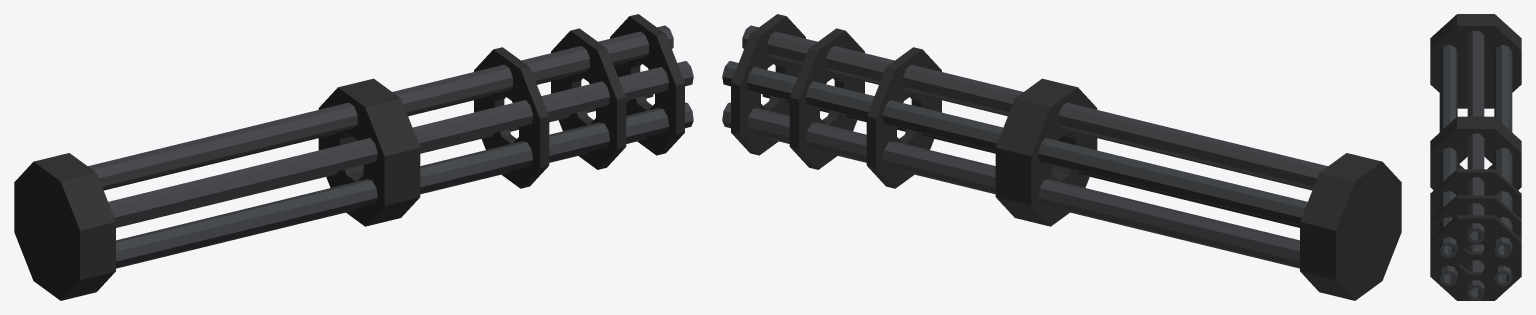
Rendered from LMG1_02_2.fbx.
3 views of the same model, side by side, from view 1: azimuth 30°, elevation 25°; view 2: azimuth 150°, elevation 25°; view 3: azimuth 270°, elevation 25° (orthographic). The views are drawn at different scales.
Visible parts, largest first — view 1: LMG1_02_2; view 2: LMG1_02_2; view 3: LMG1_02_2.
Part boxes in pixels (left/top/right/bottom): LMG1_02_2: left=14, top=14, right=693, bottom=300; LMG1_02_2: left=722, top=14, right=1401, bottom=300; LMG1_02_2: left=1430, top=14, right=1521, bottom=300.
Size of the model in its own units: 0.8235 by 0.1514 by 0.1514.
